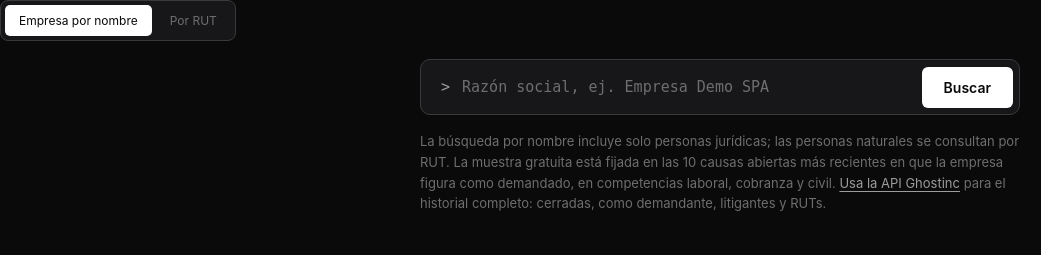
SearchForm › no permite buscar una persona por nombre y exige RUT válido en ese modo
The width and height of the screenshot is (1041, 255).
Click the button "Por RUT".
click(193, 20)  # box left=156, top=5, right=231, bottom=36
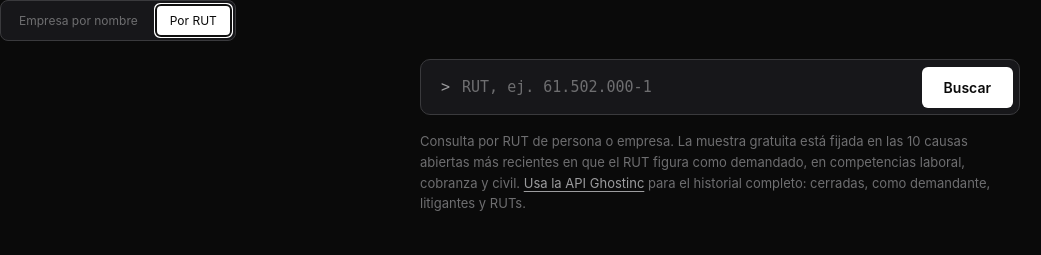
Type "Juan Pérez" into the search field.
click(686, 87); type("Juan Pérez")  # box left=462, top=66, right=910, bottom=108
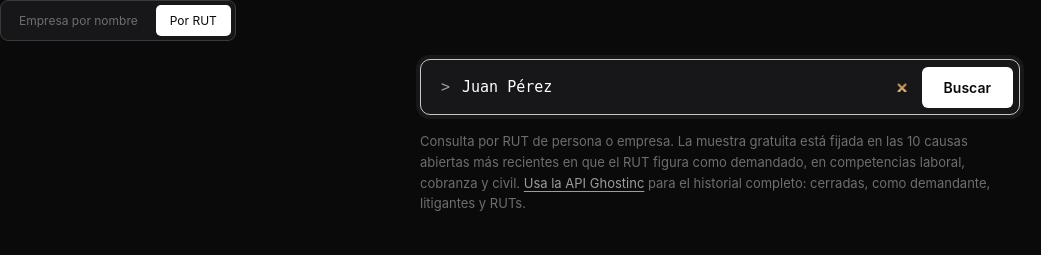
Click the button "Buscar".
click(967, 87)  # box left=922, top=66, right=1013, bottom=108
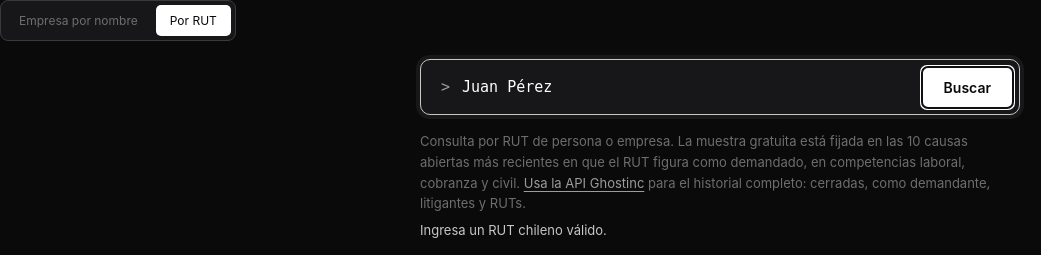
Result: the message shows "RUT chileno válido" at left=420, top=222, right=607, bottom=238
